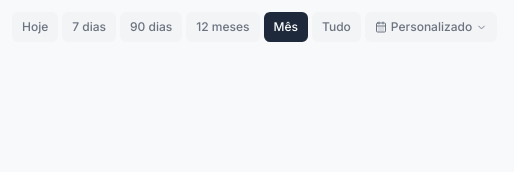
Test case: DateRangePicker › clicking Personalizado reveals the date inputs
Expected: the field labelled "Data inicial" is not shown
Step 1. Click the button "Personalizado" → {"x": 431, "y": 27}, box [365, 12, 497, 42]
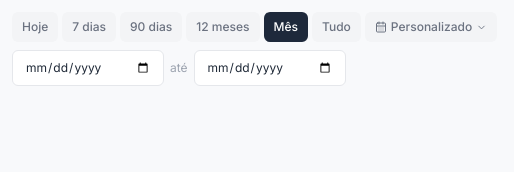
Now the date field named "Data inicial" is shown, box [12, 50, 164, 86]
Now the date field named "Data final" is shown, box [194, 50, 346, 86]
